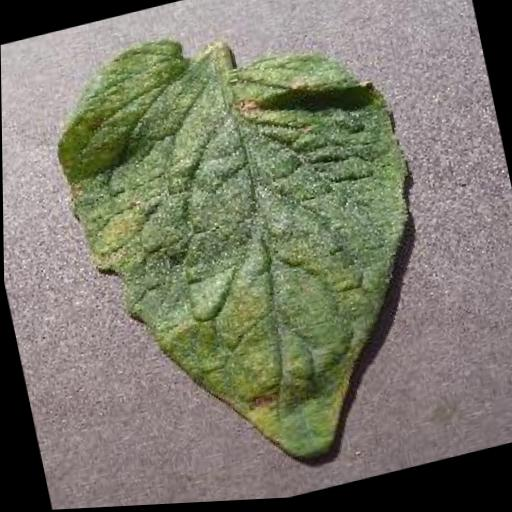Spider Mites: (36, 0, 462, 511)
